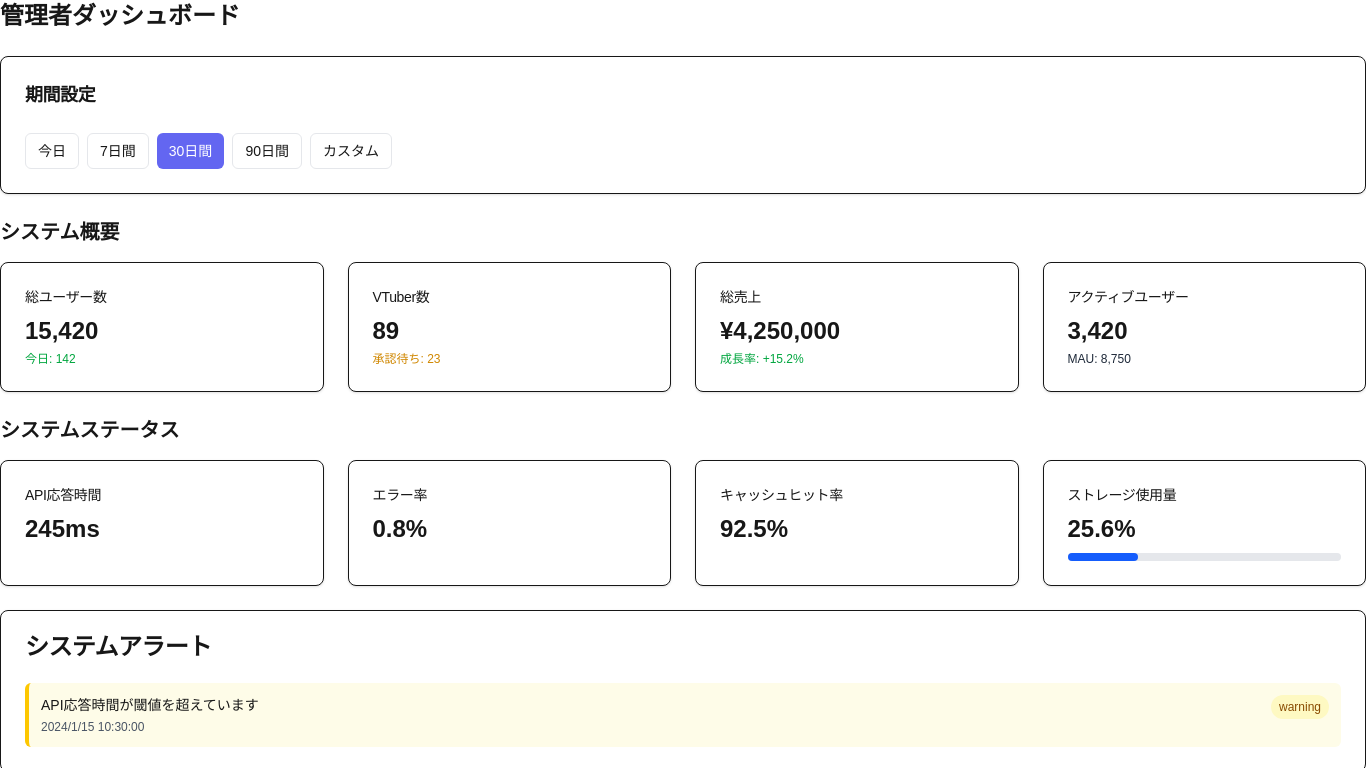
AdminDashboardPage › Period Filter Functionality › should show custom date picker when custom is selected
This will fail because custom date picker is not implemented yet
Click the button "カスタム" at (351, 151), box x1=310 y1=133 x2=392 y2=169
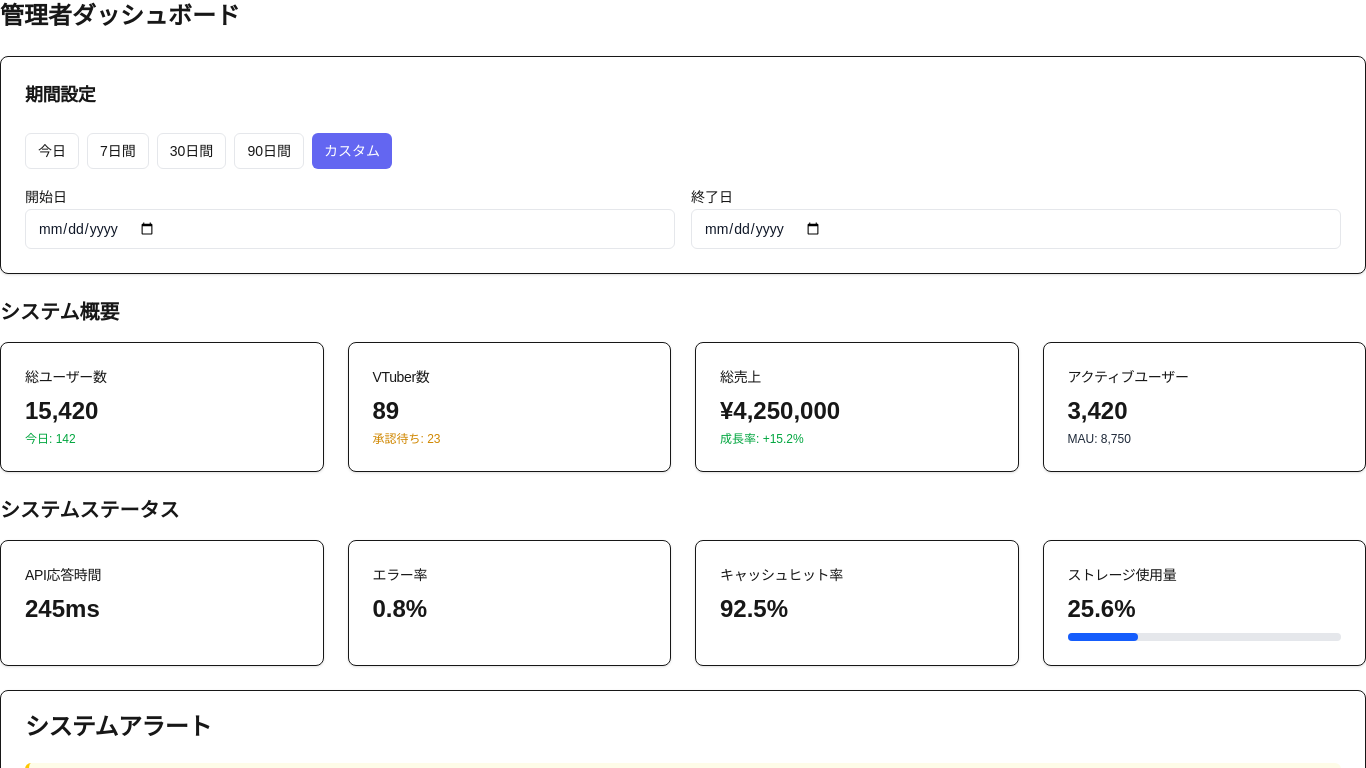
expect the date field labelled "開始日" is shown: met, box x1=25 y1=209 x2=675 y2=249
expect the date field labelled "終了日" is shown: met, box x1=691 y1=209 x2=1341 y2=249
